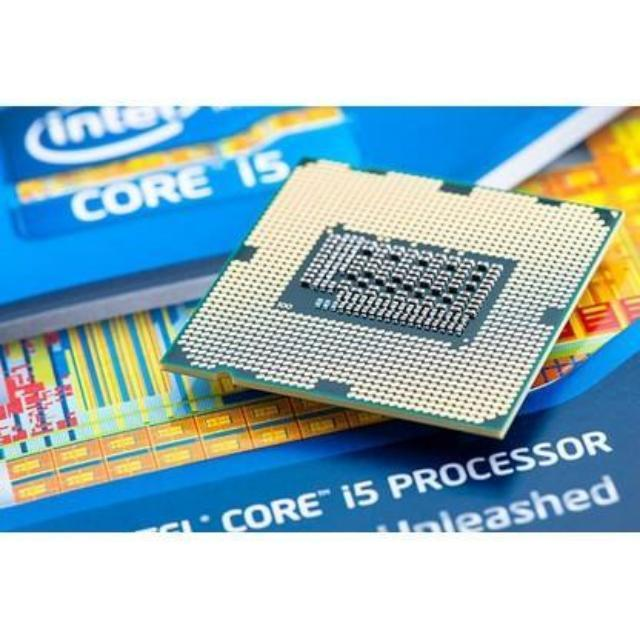CPU: (180, 166, 606, 420)
